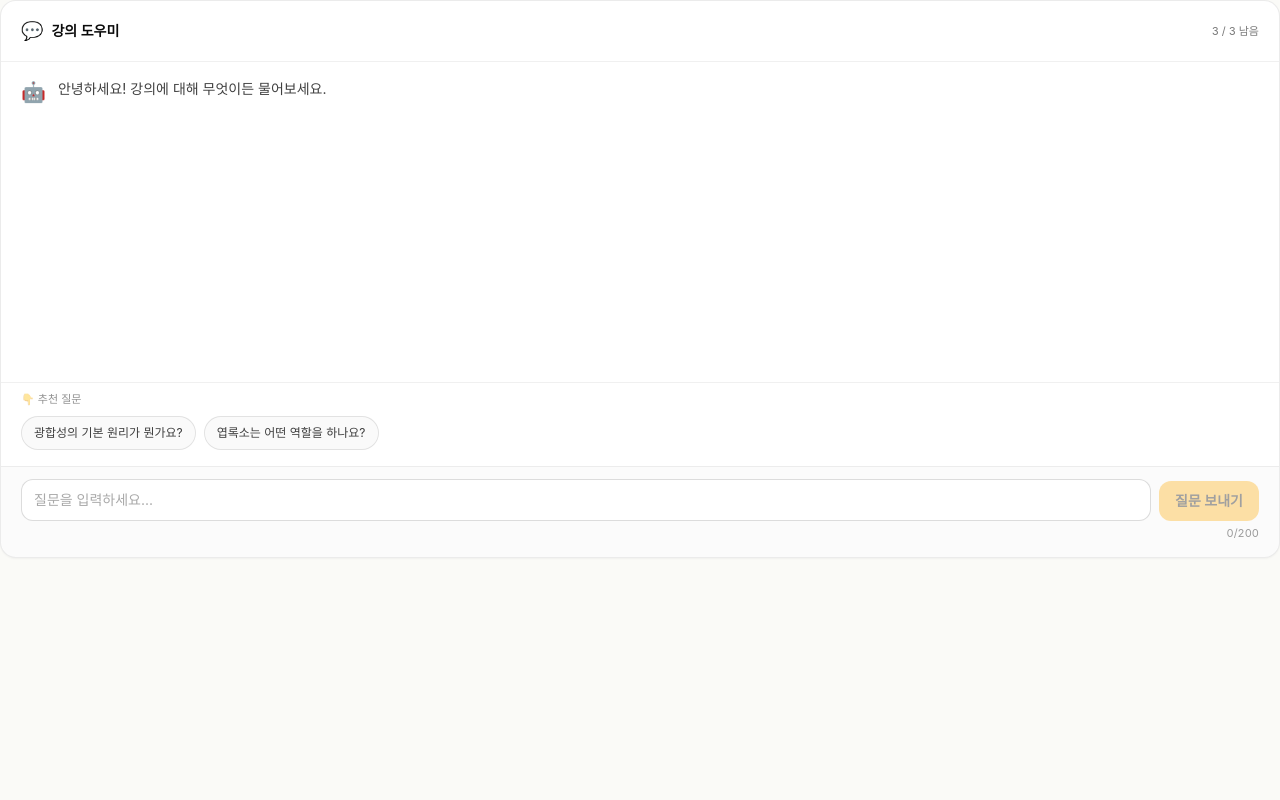
Test case: QASimulator › hides the input and shows the limit-reached CTA after 3 questions
The width and height of the screenshot is (1280, 800).
Type "광합성의 원리?" into the text box with test id "demo-input" at (586, 500), box 21,478 -> 1151,520
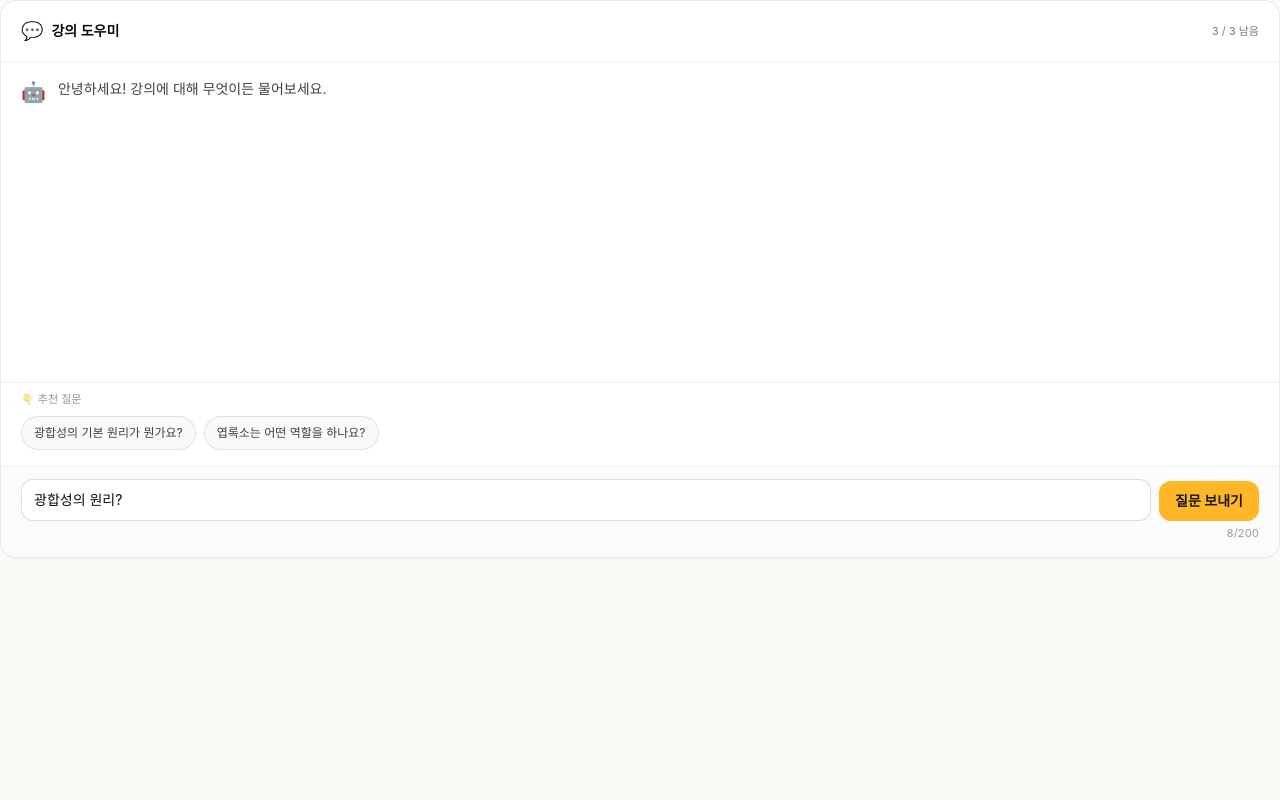
Click the button with test id "demo-send" at (1209, 500), box 1159,480 -> 1259,520
Wait 800 ms
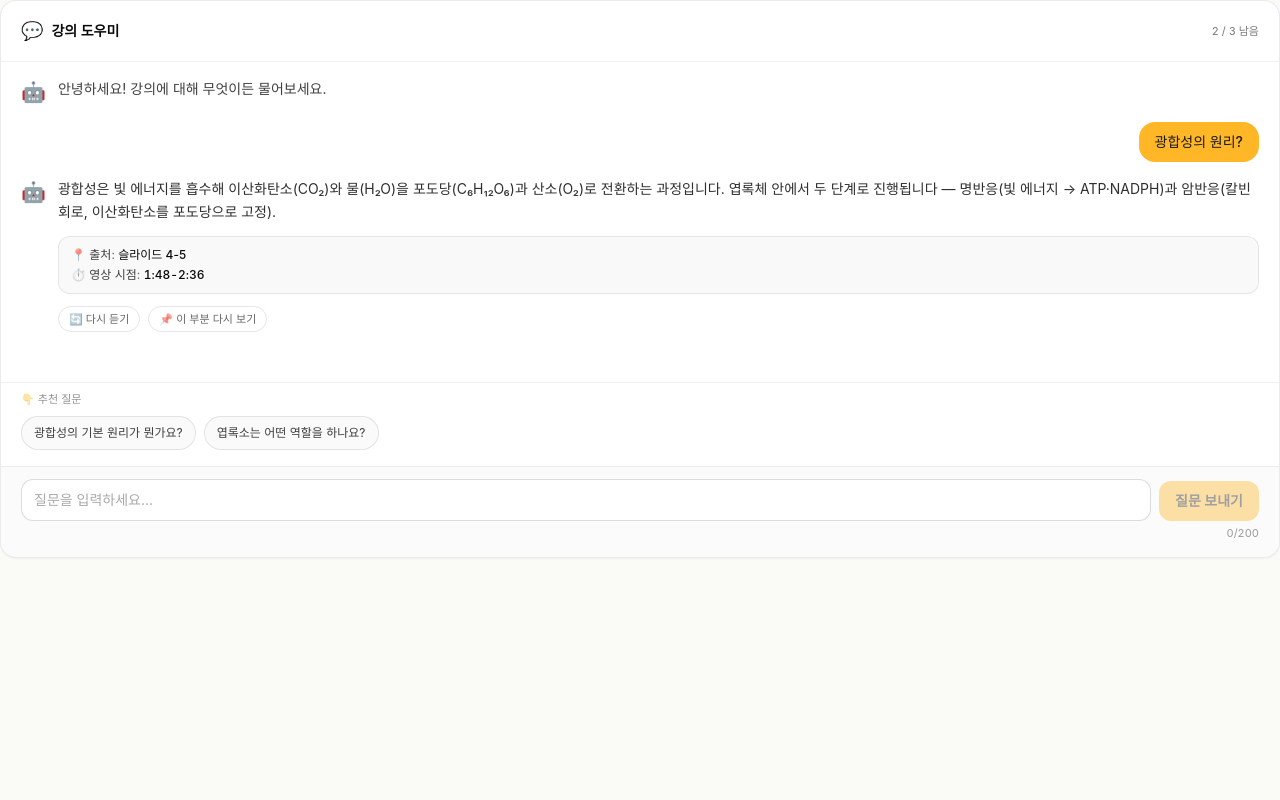
Type "엽록소의 역할?" into the text box with test id "demo-input" at (586, 500), box 21,478 -> 1151,520
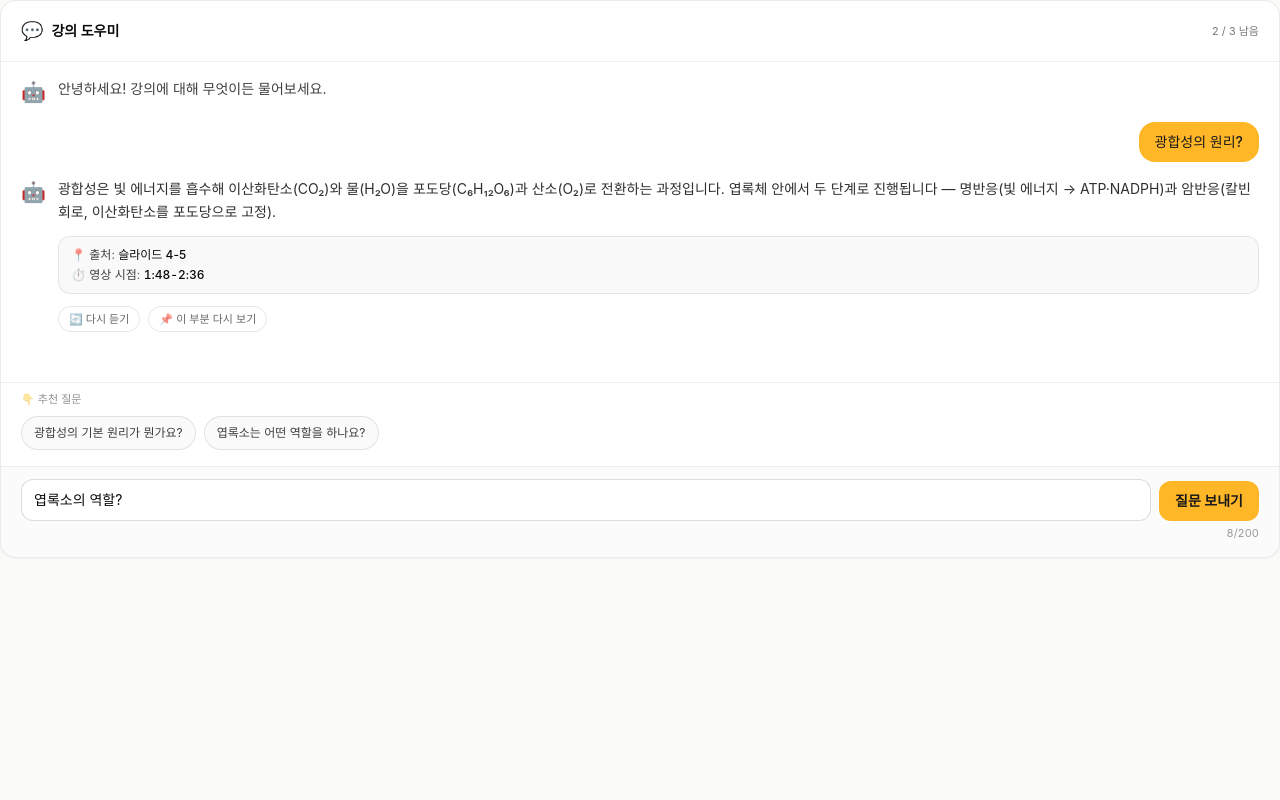
Click the button with test id "demo-send" at (1209, 500), box 1159,480 -> 1259,520
Wait 800 ms
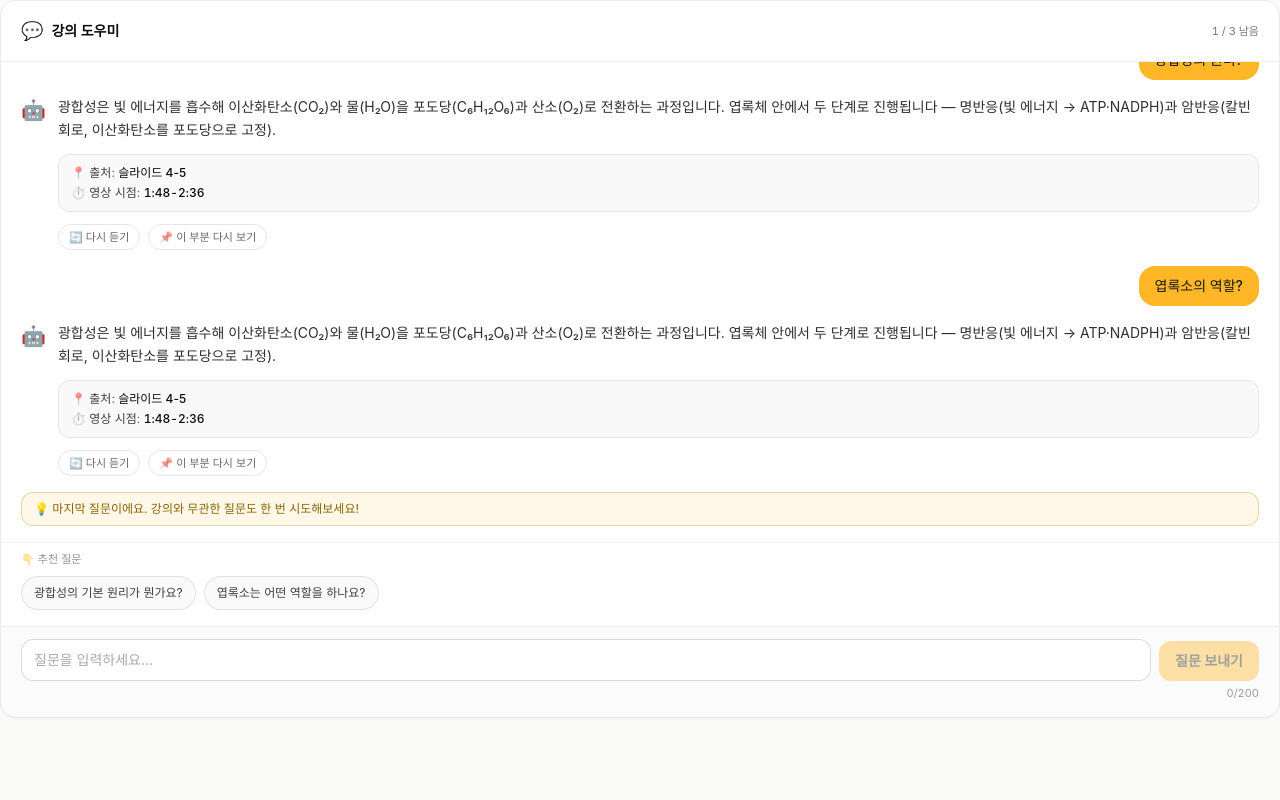
Type "명반응과 암반응 차이?" into the text box with test id "demo-input" at (586, 660), box 21,638 -> 1151,680
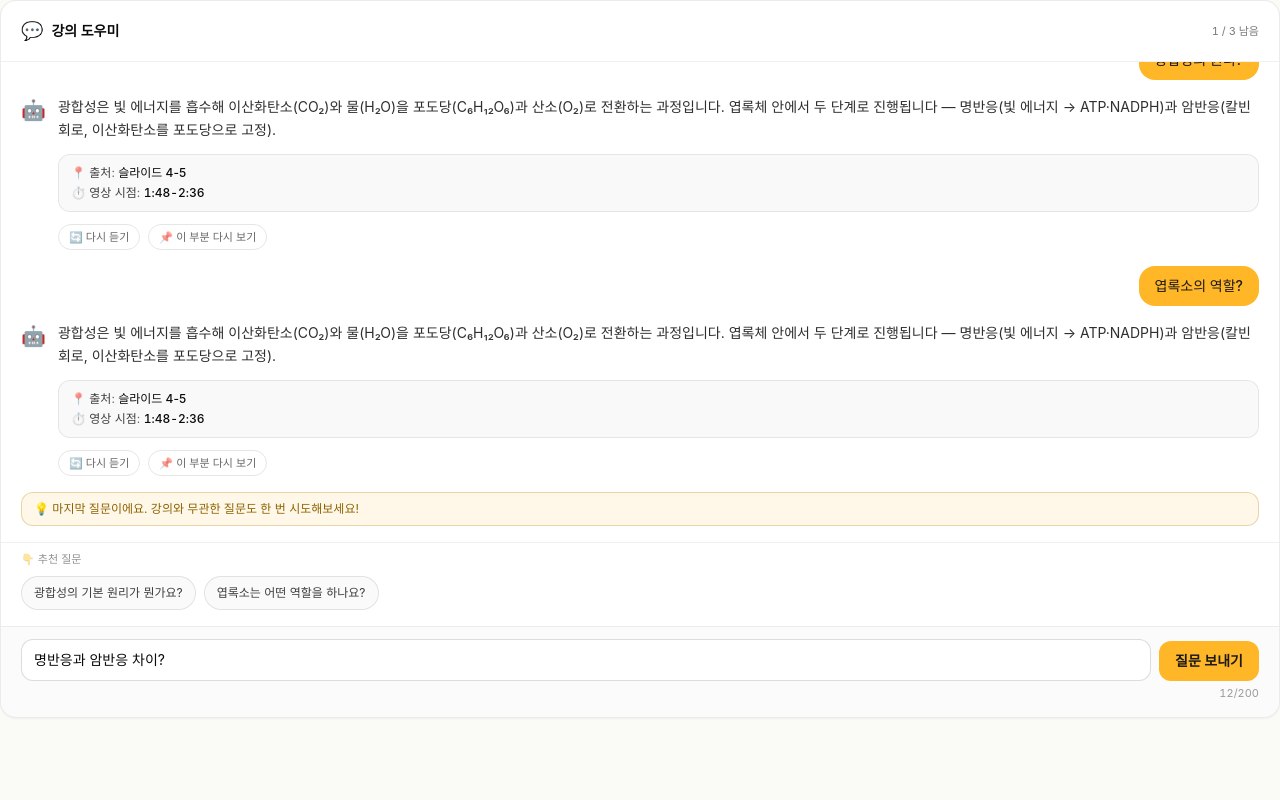
Click the button with test id "demo-send" at (1209, 660), box 1159,640 -> 1259,680
Wait 800 ms
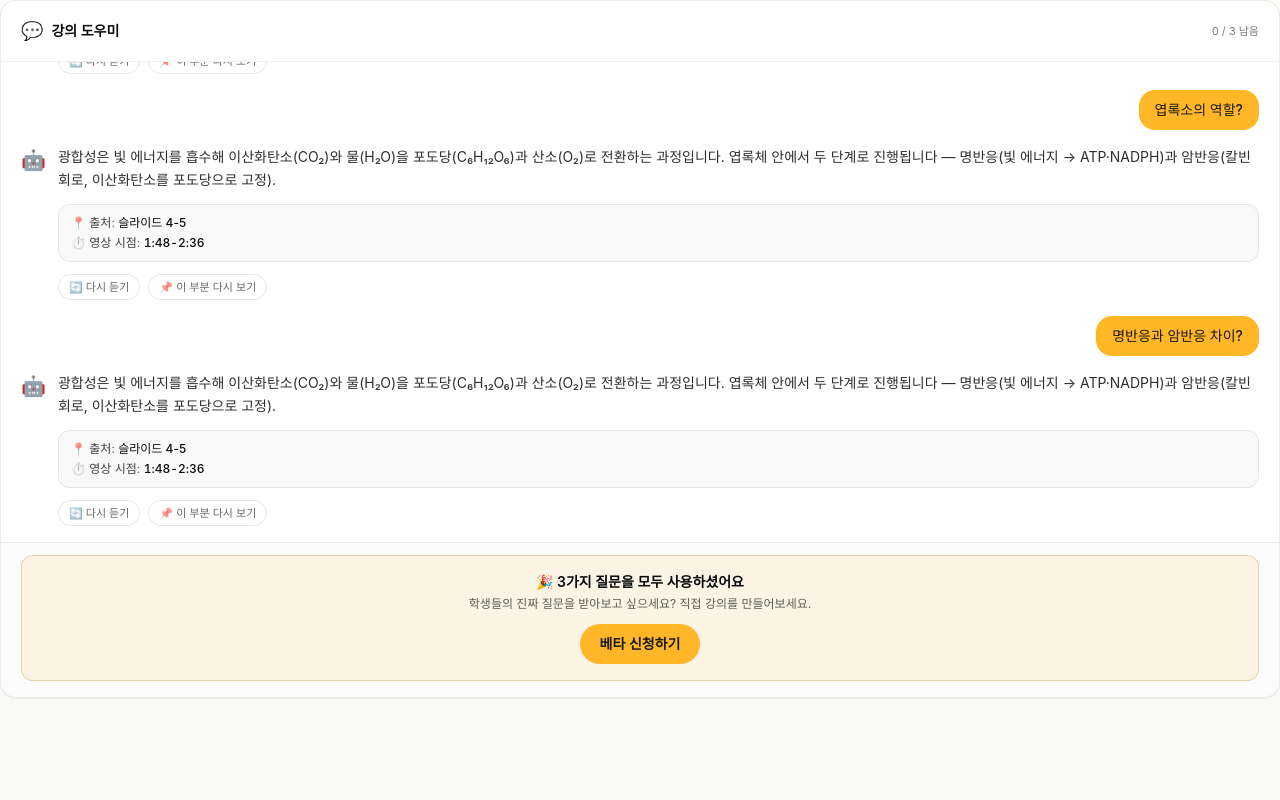
Result: the element with test id "demo-limit-reached" is shown at 21,555 -> 1259,681
Result: the text box with test id "demo-input" is gone
